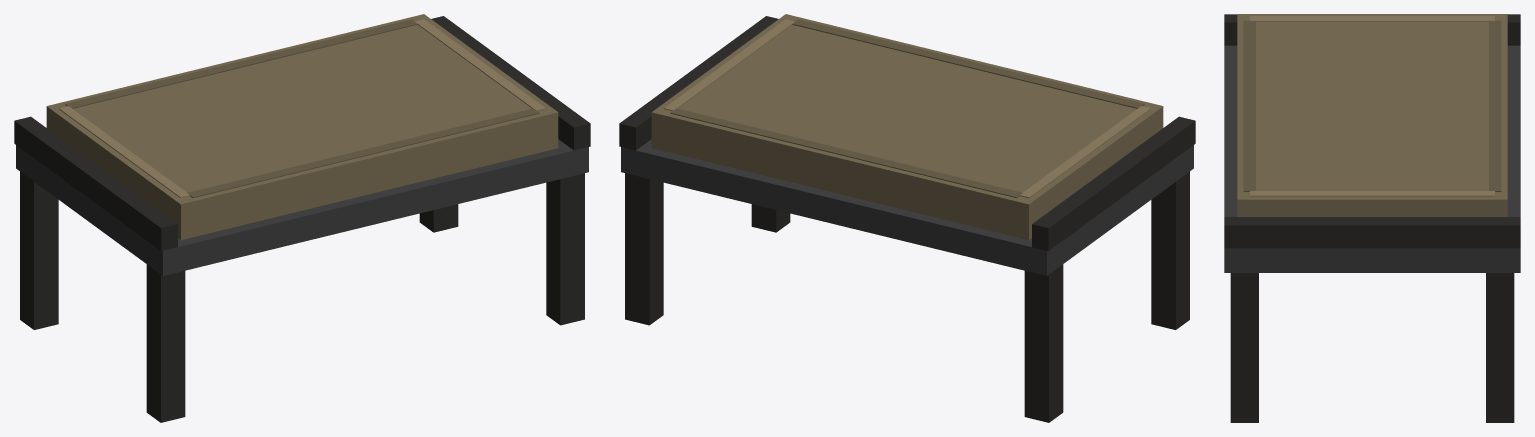
The model's file is CMU3DRMCBedAlt.glb.
3 renders of one model, left to right at view 1: azimuth 30°, elevation 25°; view 2: azimuth 150°, elevation 25°; view 3: azimuth 270°, elevation 25°, orthographic.
Visible parts, largest first — view 1: mattress, frame leg (×4), bed frame, frame end lip (×2), mattress seam (×2), mattress edge (×2); view 2: mattress, frame leg (×4), bed frame, frame end lip (×2), mattress seam (×2), mattress edge (×2); view 3: mattress, bed frame, frame end lip (×2), frame leg (×2), mattress seam (×2), mattress edge (×2).
Boxes of the visible parts, <box> form: mattress: <box>46,14,558,239</box>; frame leg (×4): <box>20,171,584,422</box>; bed frame: <box>16,139,588,275</box>; frame end lip (×2): <box>14,16,590,250</box>; mattress seam (×2): <box>65,19,539,198</box>; mattress edge (×2): <box>59,19,545,198</box>; mattress: <box>651,14,1163,239</box>; frame leg (×4): <box>625,171,1189,422</box>; bed frame: <box>621,139,1193,275</box>; frame end lip (×2): <box>619,16,1195,250</box>; mattress seam (×2): <box>670,19,1144,198</box>; mattress edge (×2): <box>664,19,1150,198</box>; mattress: <box>1237,14,1507,216</box>; bed frame: <box>1224,45,1520,272</box>; frame end lip (×2): <box>1224,14,1520,248</box>; frame leg (×2): <box>1230,273,1514,422</box>; mattress seam (×2): <box>1243,20,1501,191</box>; mattress edge (×2): <box>1250,16,1494,196</box>.
Size of the model in its own units: 0.978 by 0.46 by 0.58.
